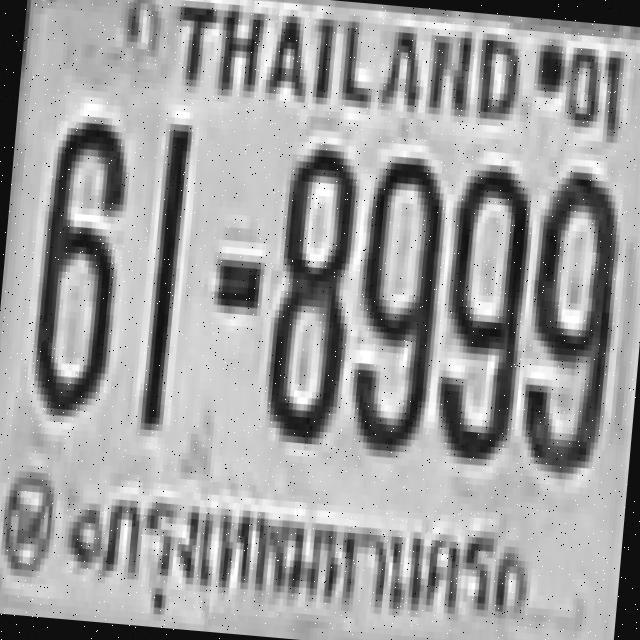1: (138, 116, 190, 424)
6: (28, 106, 127, 412)
8: (260, 133, 360, 440)
9: (516, 162, 622, 468), (344, 148, 446, 454), (431, 155, 530, 461)
Bangkok: (94, 468, 516, 640)
